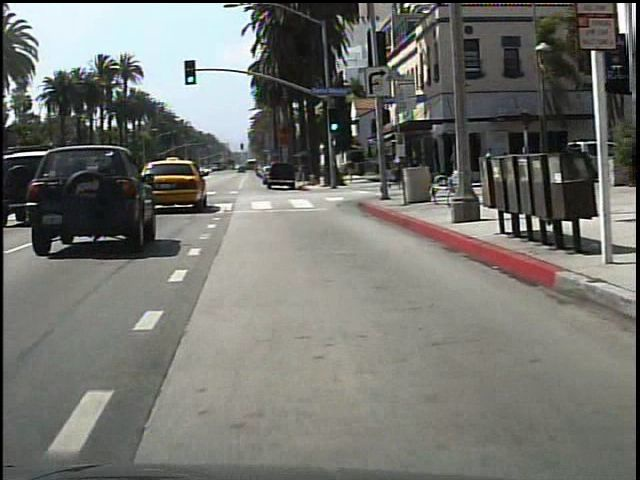person: (482, 146, 502, 190), (384, 150, 400, 195)
